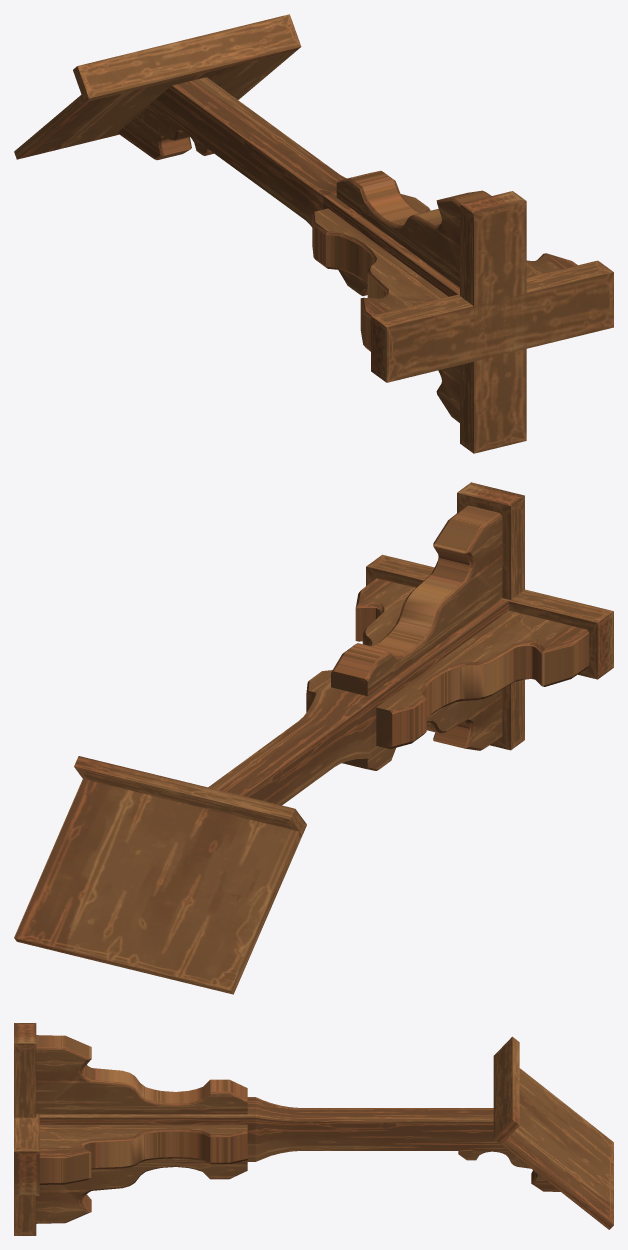
File: fp-book-stand-lod1.glb
The picture shows the model from 3 angles, top to bottom: view 1: azimuth 30°, elevation 25°; view 2: azimuth 150°, elevation 25°; view 3: azimuth 270°, elevation 25°; orthographic projection. The views are drawn at different scales.
Parts seen in each view (by area): view 1: WeaponMesh_fp-book-stand_BookStand; view 2: WeaponMesh_fp-book-stand_BookStand; view 3: WeaponMesh_fp-book-stand_BookStand.
Part boxes in pixels (x1,y1,x2,y2): WeaponMesh_fp-book-stand_BookStand: (14, 14, 613, 453); WeaponMesh_fp-book-stand_BookStand: (14, 482, 613, 994); WeaponMesh_fp-book-stand_BookStand: (14, 1023, 613, 1235).
Size of the model in its own units: 0.2629 by 0.265 by 0.75.
1 material, 1 textured.
